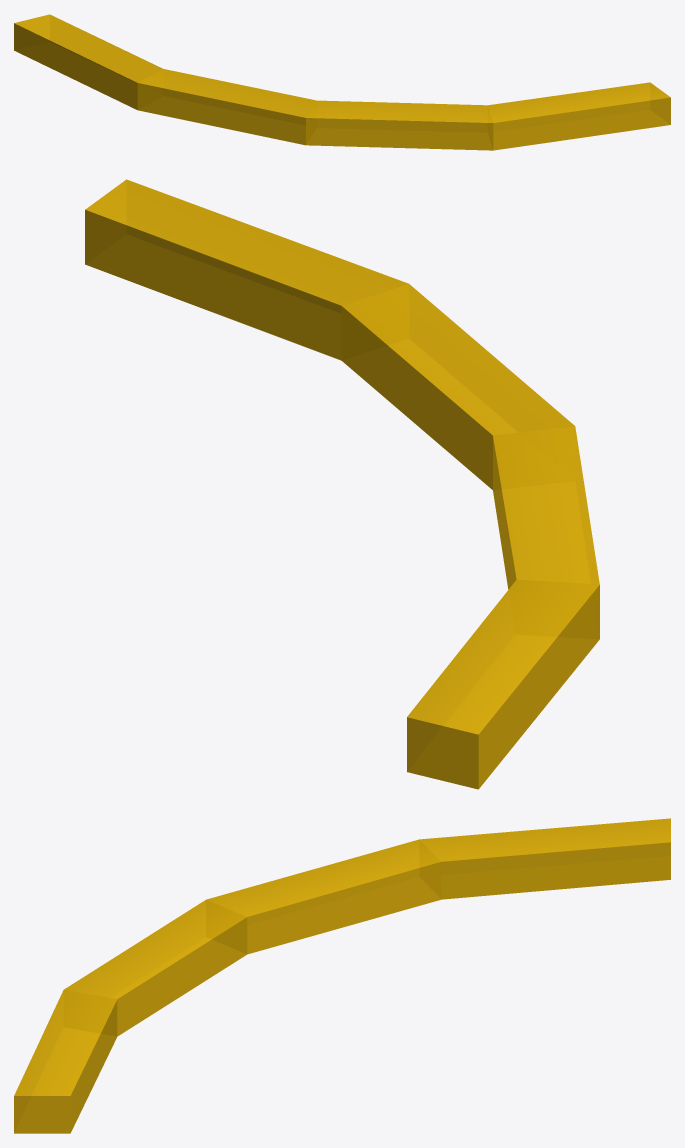
Rendered from SM_Bld_Balcony_Manor_Arch_Curve_01_Collision.fbx.
The picture shows the model from 3 angles, top to bottom: view 1: azimuth 30°, elevation 25°; view 2: azimuth 150°, elevation 25°; view 3: azimuth 270°, elevation 25°; orthographic projection. The views are drawn at different scales.
Parts seen in each view (by area): view 1: SM_Bld_Balcony_Manor_Arch_Curve_01_Collision; view 2: SM_Bld_Balcony_Manor_Arch_Curve_01_Collision; view 3: SM_Bld_Balcony_Manor_Arch_Curve_01_Collision.
Boxes of the visible parts, x1,y1,x2,y2 form: SM_Bld_Balcony_Manor_Arch_Curve_01_Collision: [14, 14, 670, 150]; SM_Bld_Balcony_Manor_Arch_Curve_01_Collision: [85, 179, 599, 789]; SM_Bld_Balcony_Manor_Arch_Curve_01_Collision: [14, 818, 670, 1133].
Bounding box in the file's own units: 261 × 16.45 × 261.
